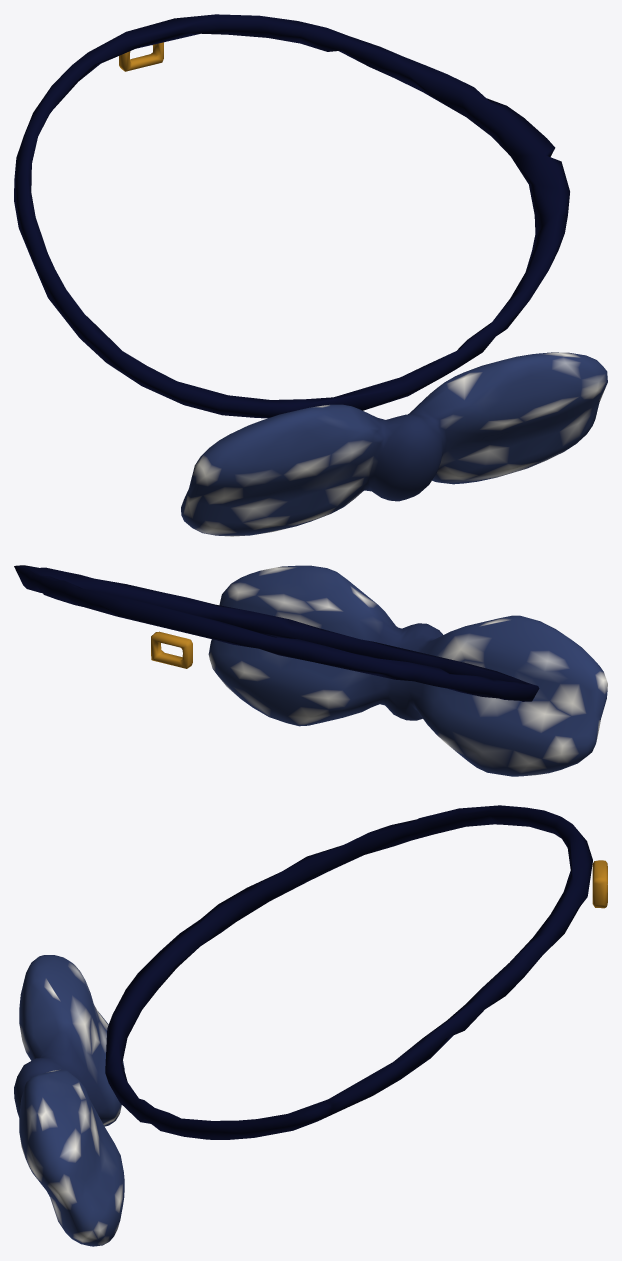
File: nobuom.glb
3 renders of one model, top to bottom at view 1: azimuth 30°, elevation 25°; view 2: azimuth 150°, elevation 25°; view 3: azimuth 270°, elevation 25°, orthographic. The views are drawn at different scales.
Visible parts, largest first — view 1: No_Buom, Day_No, Khoa_No; view 2: No_Buom, Day_No, Khoa_No; view 3: Day_No, No_Buom, Khoa_No.
Part boxes in pixels (x1,y1,x2,y2): No_Buom: (181,352,607,536); Day_No: (14,14,569,418); Khoa_No: (119,42,163,71); No_Buom: (208,565,607,776); Day_No: (14,565,539,701); Khoa_No: (151,631,192,668); Day_No: (105,805,592,1139); No_Buom: (14,955,124,1246); Khoa_No: (592,860,607,908).
Bounding box in the file's own units: 0.2227 × 0.1294 × 0.2144.
